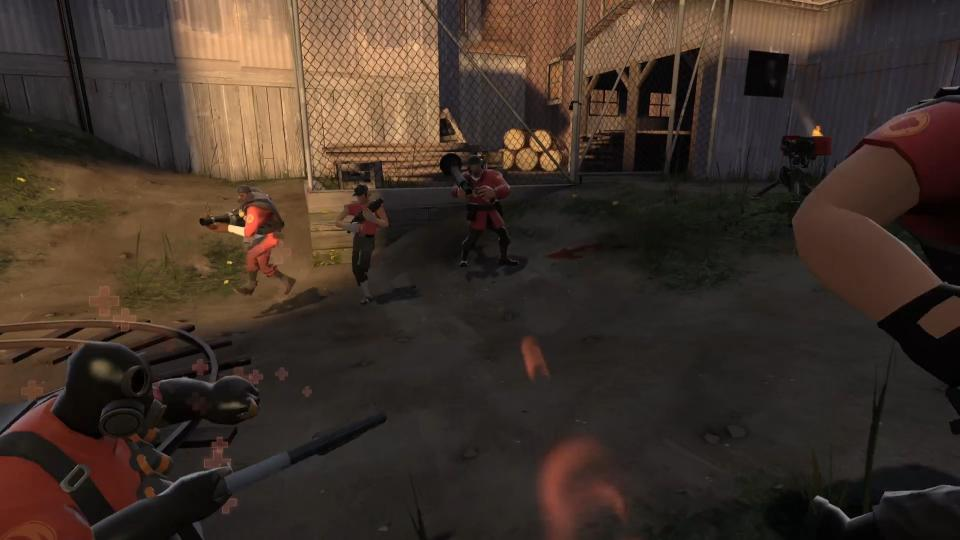Enemy: (789, 79, 960, 540), (0, 339, 390, 540), (199, 184, 297, 297), (440, 152, 521, 269), (336, 183, 390, 305)
